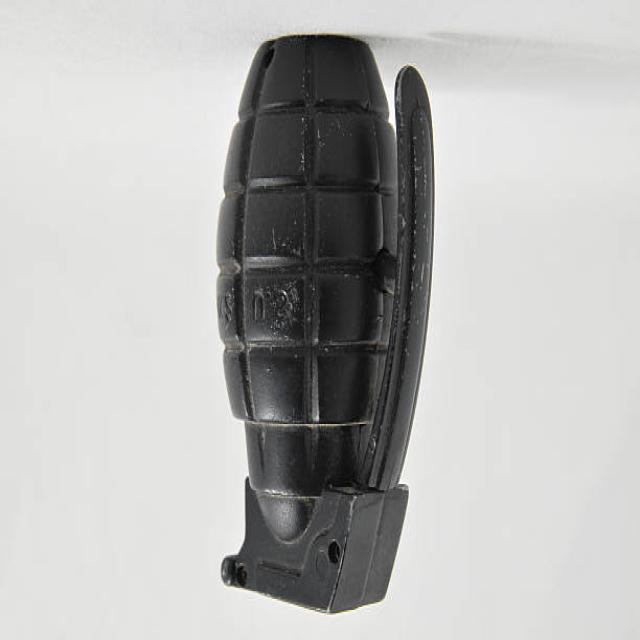grenade: (205, 29, 450, 622)
